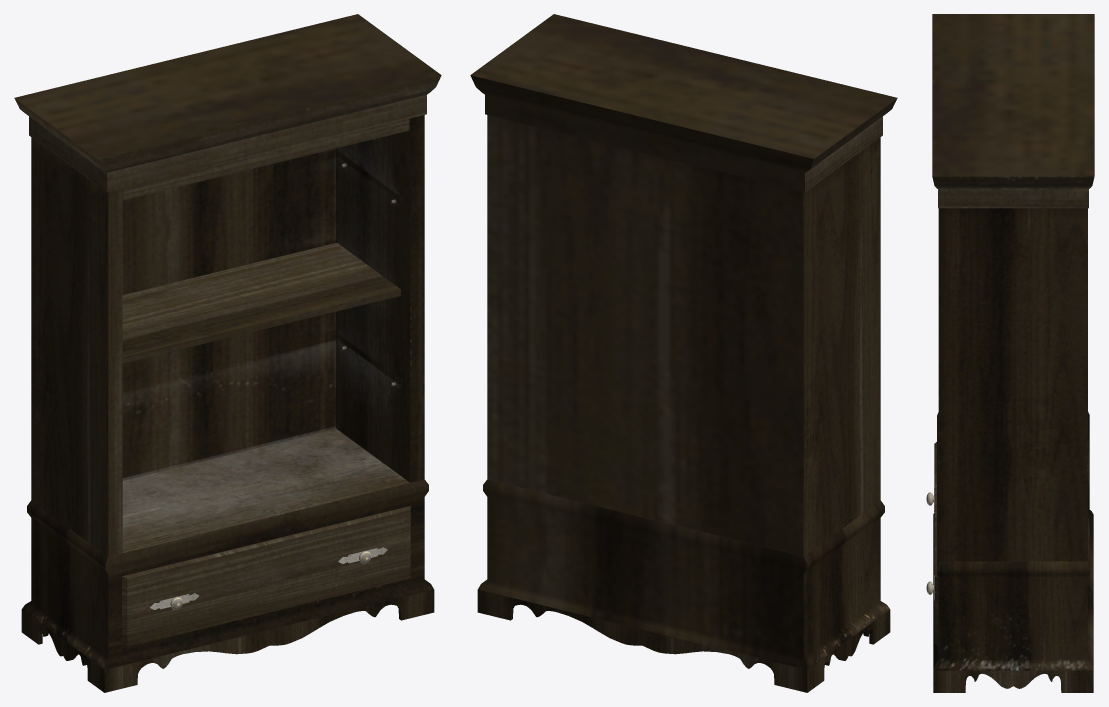
Rendered from 156_Closet.fbx.
3 renders of one model, left to right at view 1: azimuth 30°, elevation 25°; view 2: azimuth 150°, elevation 25°; view 3: azimuth 270°, elevation 25°, orthographic. The views are drawn at different scales.
Parts seen in each view (by area): view 1: LOD_1_Group_0_Sub_1__sm30_156_Closet01C_A_Mat; view 2: LOD_1_Group_0_Sub_1__sm30_156_Closet01C_A_Mat; view 3: LOD_1_Group_0_Sub_1__sm30_156_Closet01C_A_Mat.
Boxes of the visible parts, x1,y1,x2,y2 form: LOD_1_Group_0_Sub_1__sm30_156_Closet01C_A_Mat: [14, 14, 441, 692]; LOD_1_Group_0_Sub_1__sm30_156_Closet01C_A_Mat: [470, 14, 897, 692]; LOD_1_Group_0_Sub_1__sm30_156_Closet01C_A_Mat: [926, 14, 1094, 692].
Bounding box in the file's own units: 1.61 × 2.4 × 0.7042.
